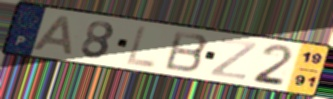2: (252, 43, 296, 89)
8: (80, 20, 116, 60)
A: (29, 14, 74, 57)
B: (162, 29, 211, 75)
L: (124, 24, 159, 70)
Z: (207, 37, 260, 82)
